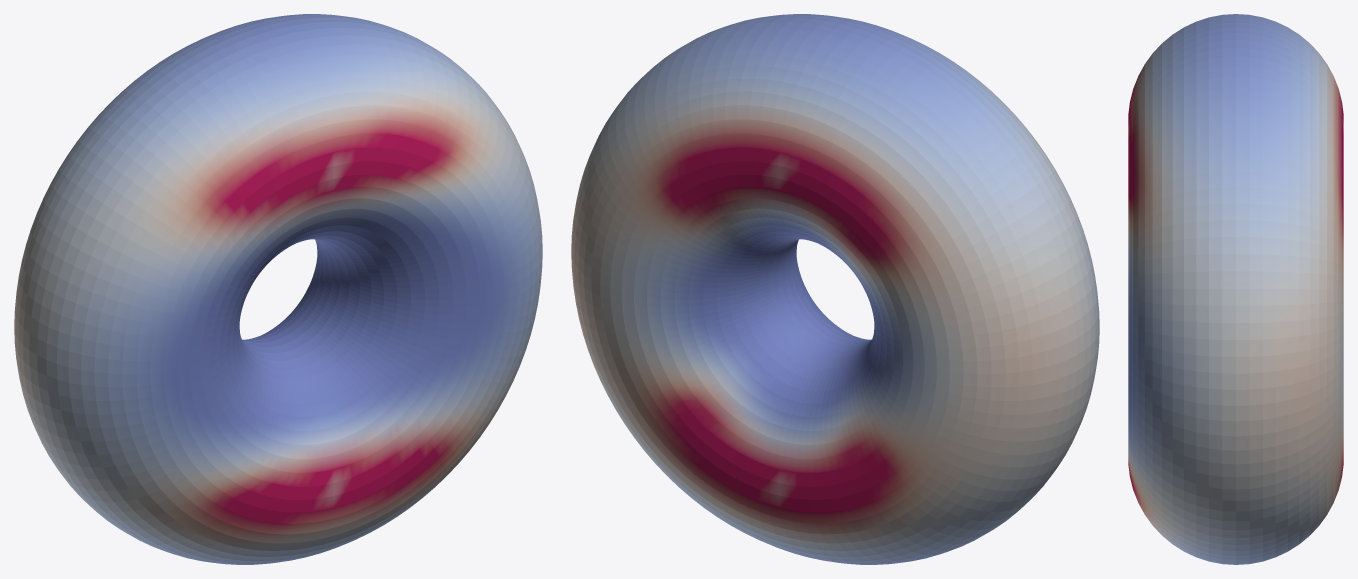
3 renders of one model, left to right at view 1: azimuth 30°, elevation 25°; view 2: azimuth 150°, elevation 25°; view 3: azimuth 270°, elevation 25°, orthographic. The views are drawn at different scales.
Visible parts, largest first — view 1: world; view 2: world; view 3: world.
Boxes of the visible parts, x1,y1,x2,y2 form: world: (14, 14, 542, 564); world: (571, 14, 1099, 564); world: (1128, 14, 1343, 564).
Bounding box in the file's own units: 16.44 × 16.44 × 6.43.
